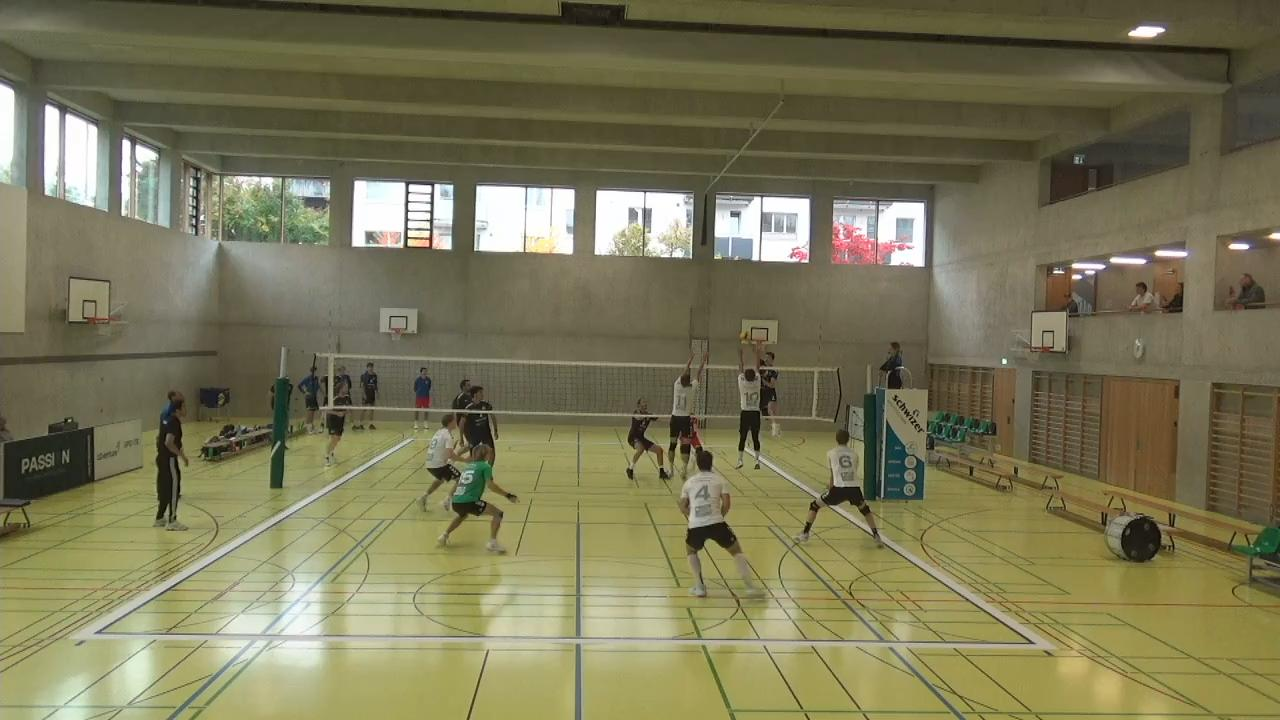attacco: (751, 338, 783, 436)
muro: (728, 333, 768, 477), (670, 349, 706, 479)
